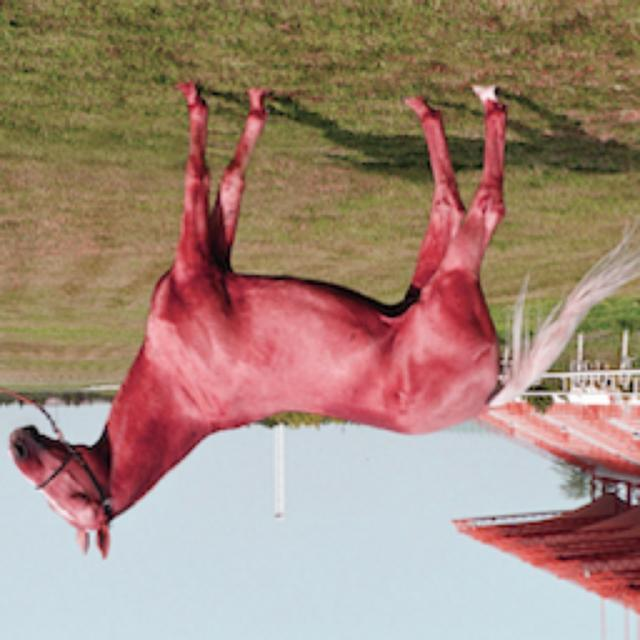Horse: (0, 75, 638, 565)
